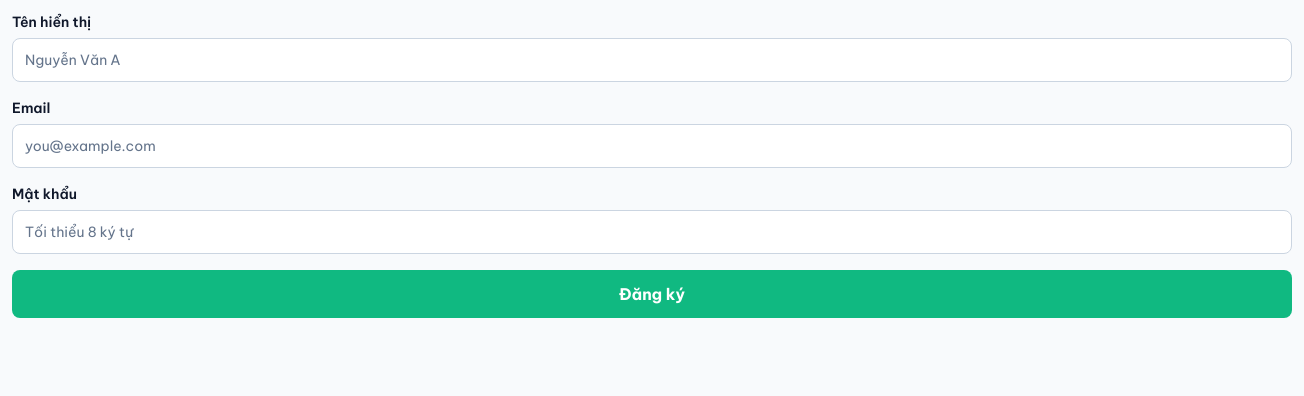
Scenario: form xác thực giữ chữ vừa gõ sau khi báo lỗi › đăng ký: email trùng thì tên và email còn nguyên
Type "Nguyễn Văn An" into the field labelled "Tên hiển thị" at coordinates (652, 60), box x1=12 y1=38 x2=1292 y2=82
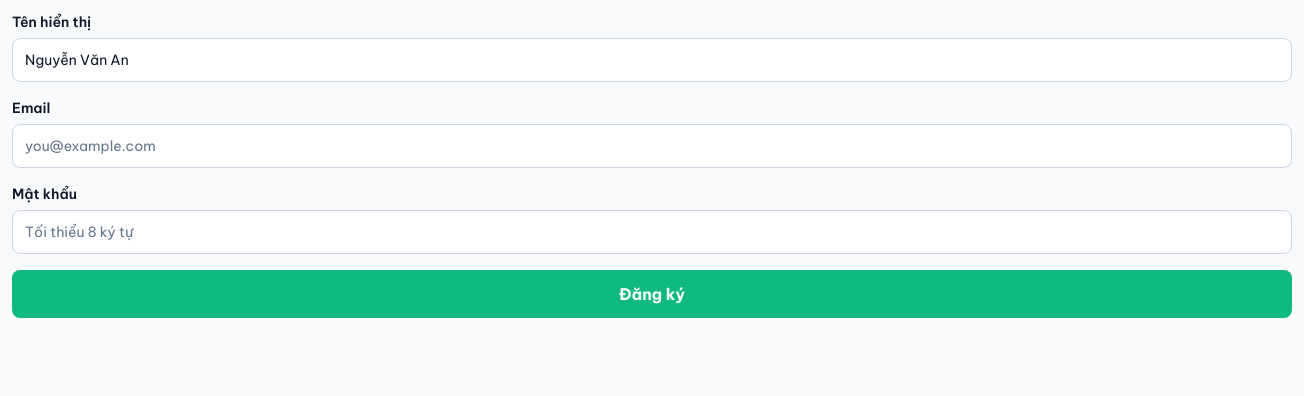
Type "an@example.com" into the field labelled "Email" at coordinates (652, 146), box x1=12 y1=124 x2=1292 y2=168
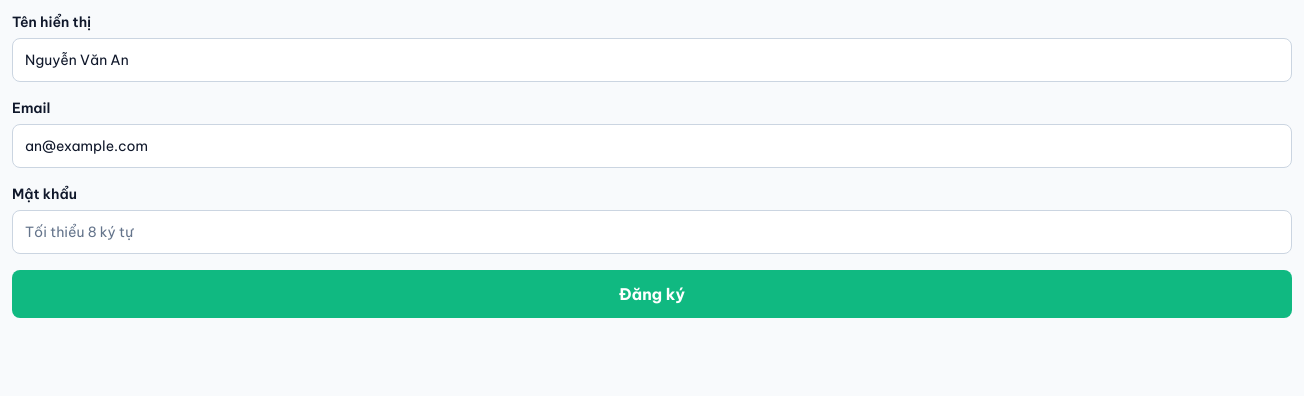
Type "mat-khau-dai-1" into the password field labelled "Mật khẩu" at coordinates (652, 232), box x1=12 y1=210 x2=1292 y2=254
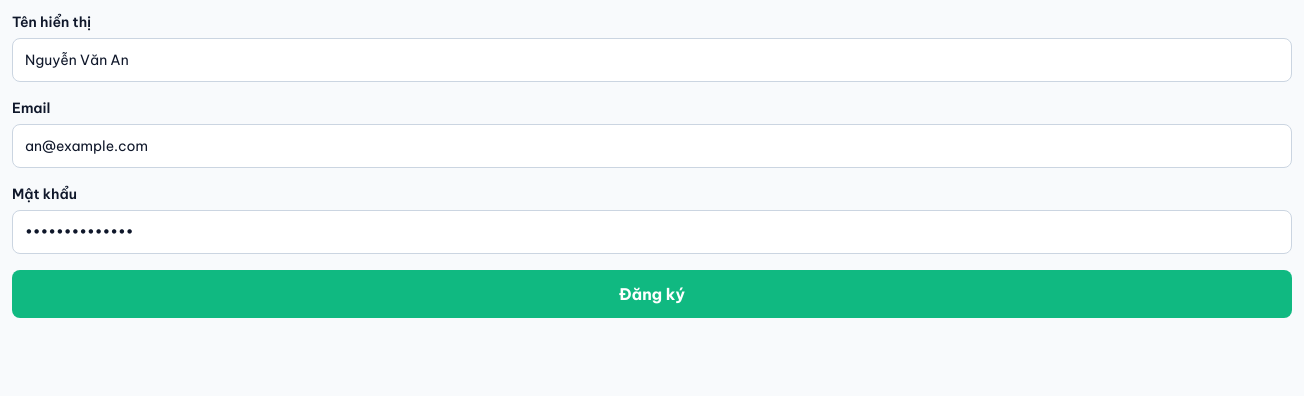
Submit the form
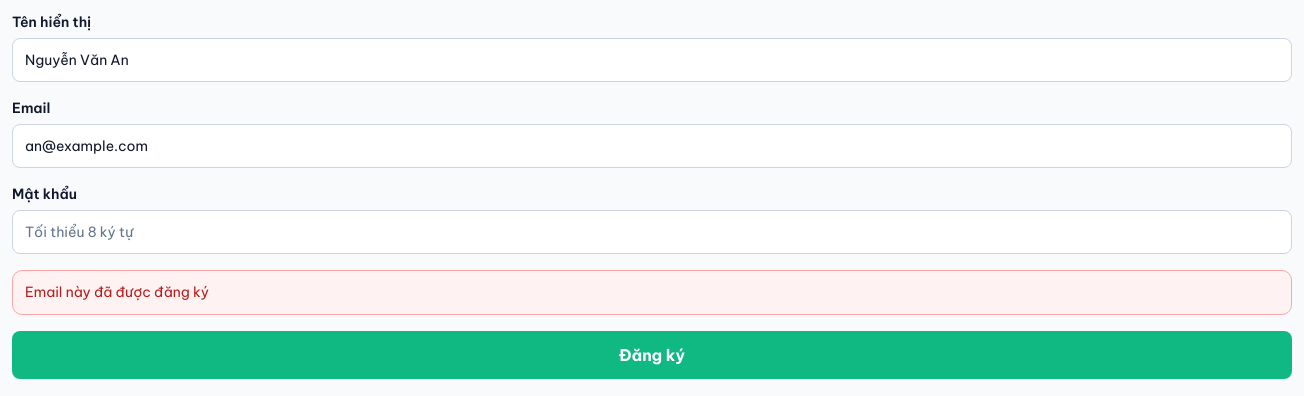
expect the message shows "đã được đăng ký": met, box x1=25 y1=283 x2=209 y2=301
expect the password field labelled "Mật khẩu" is empty: met, box x1=12 y1=210 x2=1292 y2=254
